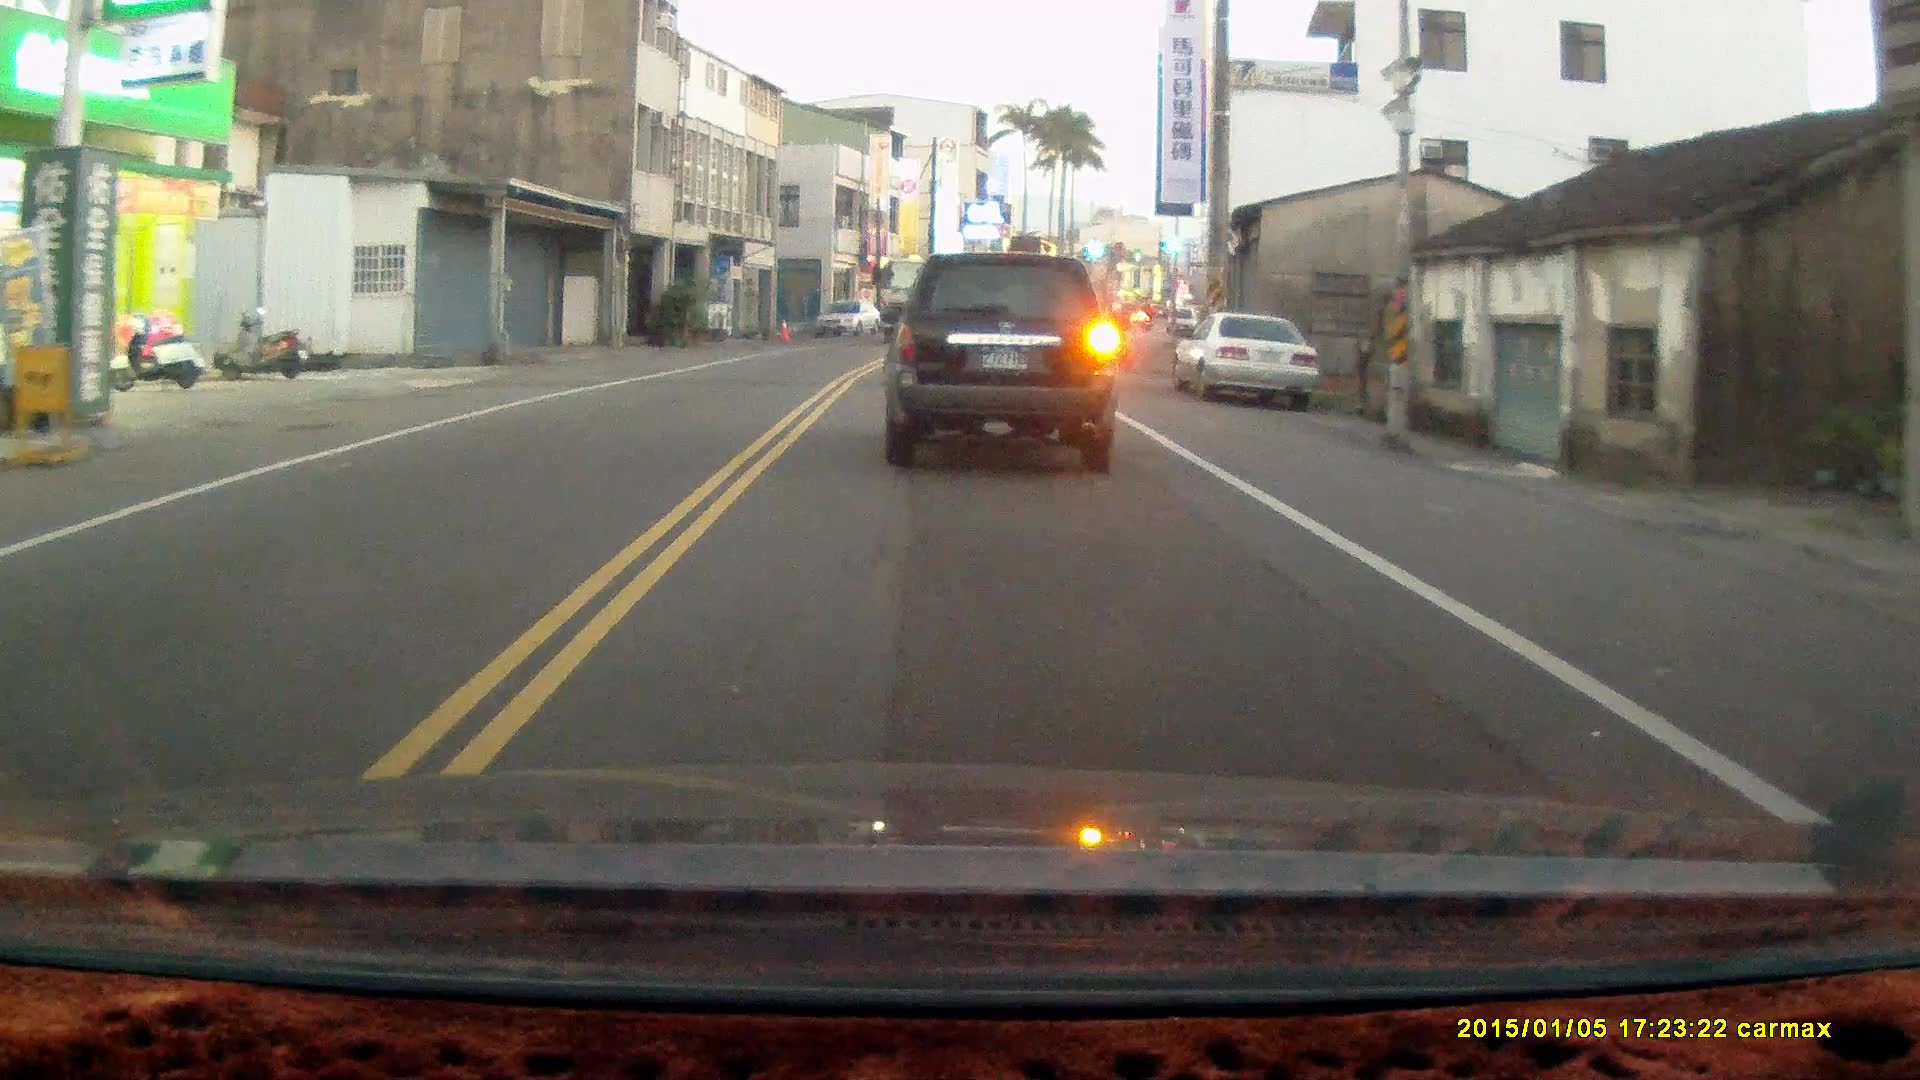rider: (1104, 298, 1135, 371)
vehicle: (882, 249, 1122, 477), (1174, 308, 1320, 405), (816, 298, 881, 344)
